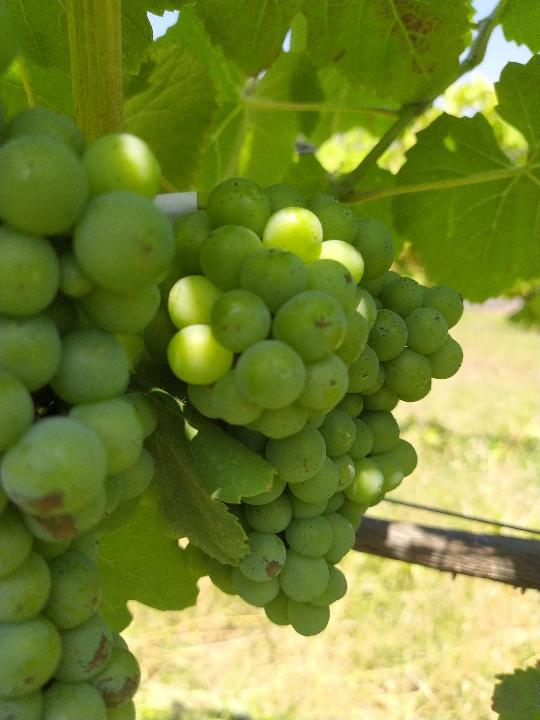grape: (156, 176, 468, 638)
